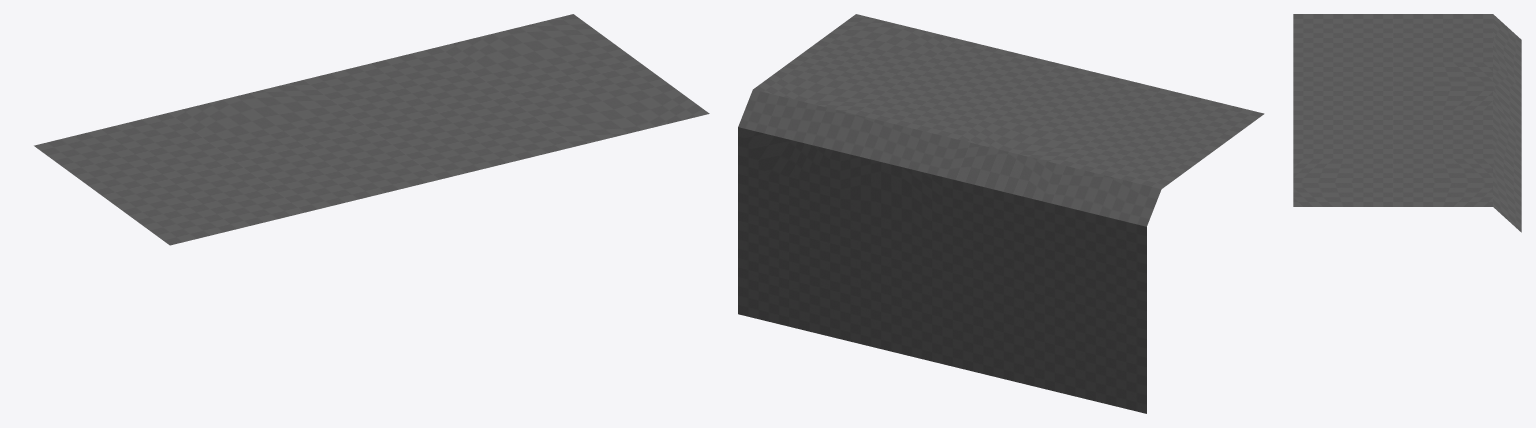
3 views of the same model, side by side, from view 1: azimuth 30°, elevation 25°; view 2: azimuth 150°, elevation 25°; view 3: azimuth 270°, elevation 25° (orthographic). The views are drawn at different scales.
Parts seen in each view (by area): view 1: 0; view 2: 0; view 3: 0.
Part boxes in pixels (x1,y1,x2,y2): 0: [34, 14, 709, 245]; 0: [738, 14, 1264, 413]; 0: [1293, 14, 1521, 232].
Size of the model in its own units: 4 by 2 by 2.
Materials: 1 (1 with a texture image).
